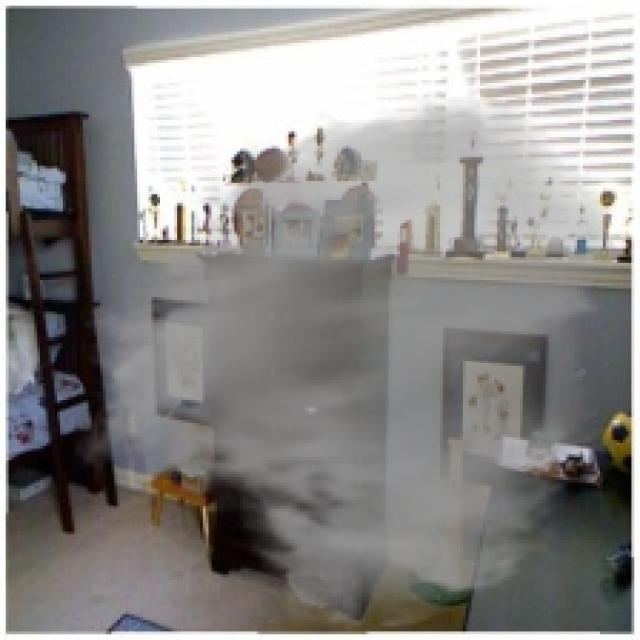smoke: (71, 91, 623, 634)
